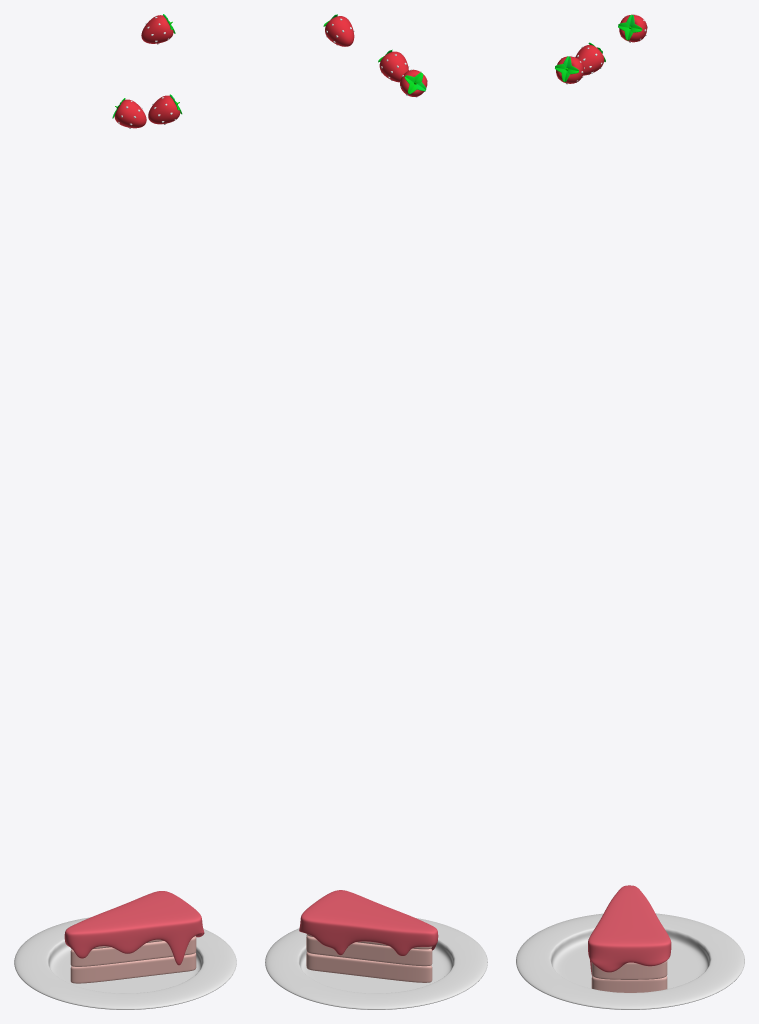
File: strawberry-cake.glb
3 renders of one model, left to right at view 1: azimuth 30°, elevation 25°; view 2: azimuth 150°, elevation 25°; view 3: azimuth 270°, elevation 25°, orthographic. The views are drawn at different scales.
Parts seen in each view (by area): view 1: Circle, Cube.003, Cube, Cube.001, Cube.004, Cube.005, Cube.053; view 2: Circle, Cube.003, Cube, Cube.001, Cube.053, Cube.005, Cube.004; view 3: Circle, Cube.003, Cube.001, Cube, Cube.053, Cube.005, Cube.004.
Boxes of the visible parts, box(x1,y1,x2,y2) form: Circle: box(14, 917, 236, 1009); Cube.003: box(64, 891, 204, 965); Cube: box(70, 952, 196, 983); Cube.001: box(70, 936, 196, 966); Cube.004: box(112, 98, 146, 128); Cube.005: box(148, 94, 182, 124); Cube.053: box(141, 14, 175, 44); Circle: box(265, 918, 487, 1009); Cube.003: box(299, 890, 438, 955); Cube: box(306, 952, 432, 982); Cube.001: box(306, 935, 432, 966); Cube.053: box(323, 14, 354, 46); Cube.005: box(378, 49, 409, 82); Cube.004: box(400, 69, 427, 97); Circle: box(516, 913, 744, 1009); Cube.003: box(588, 885, 671, 975); Cube.001: box(591, 960, 667, 979); Cube: box(591, 976, 667, 992); Cube.053: box(618, 14, 647, 42); Cube.005: box(555, 55, 584, 84); Cube.004: box(574, 42, 605, 75).
Bounding box in the file's own units: 10.5 × 49.54 × 10.5.
